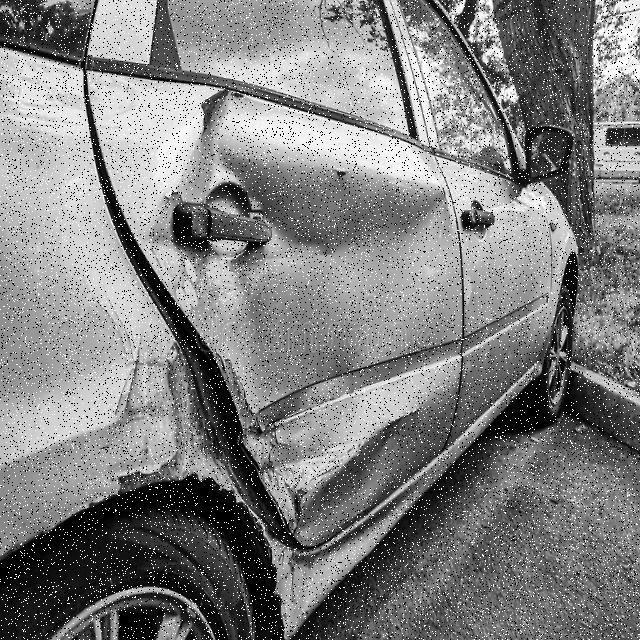Runningboard-Damage: (267, 518, 432, 639)
doorouter-dent: (172, 79, 461, 478)
quaterpanel-dent: (0, 338, 192, 639)
